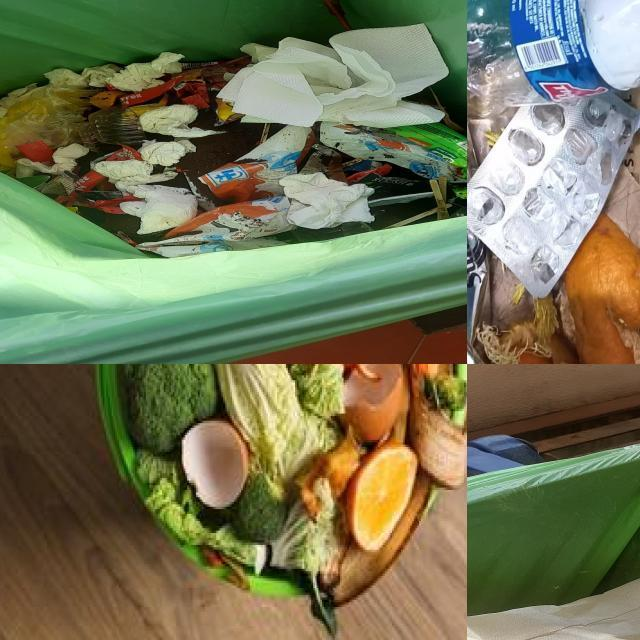Disposable: (89, 104, 157, 146)
Garbage: (0, 24, 467, 258), (467, 0, 640, 364)
Paper: (0, 364, 467, 640)
Plastic: (467, 92, 640, 298)
Plastic_Bag: (137, 196, 295, 258), (199, 126, 312, 204), (0, 86, 97, 170), (368, 192, 433, 207)
Plastic_bottle: (467, 0, 640, 118)
Plastic_wraper: (320, 122, 453, 178), (385, 123, 467, 178), (72, 191, 140, 213), (174, 82, 210, 109), (213, 99, 244, 126)
top_view_waste: (119, 364, 467, 632)
